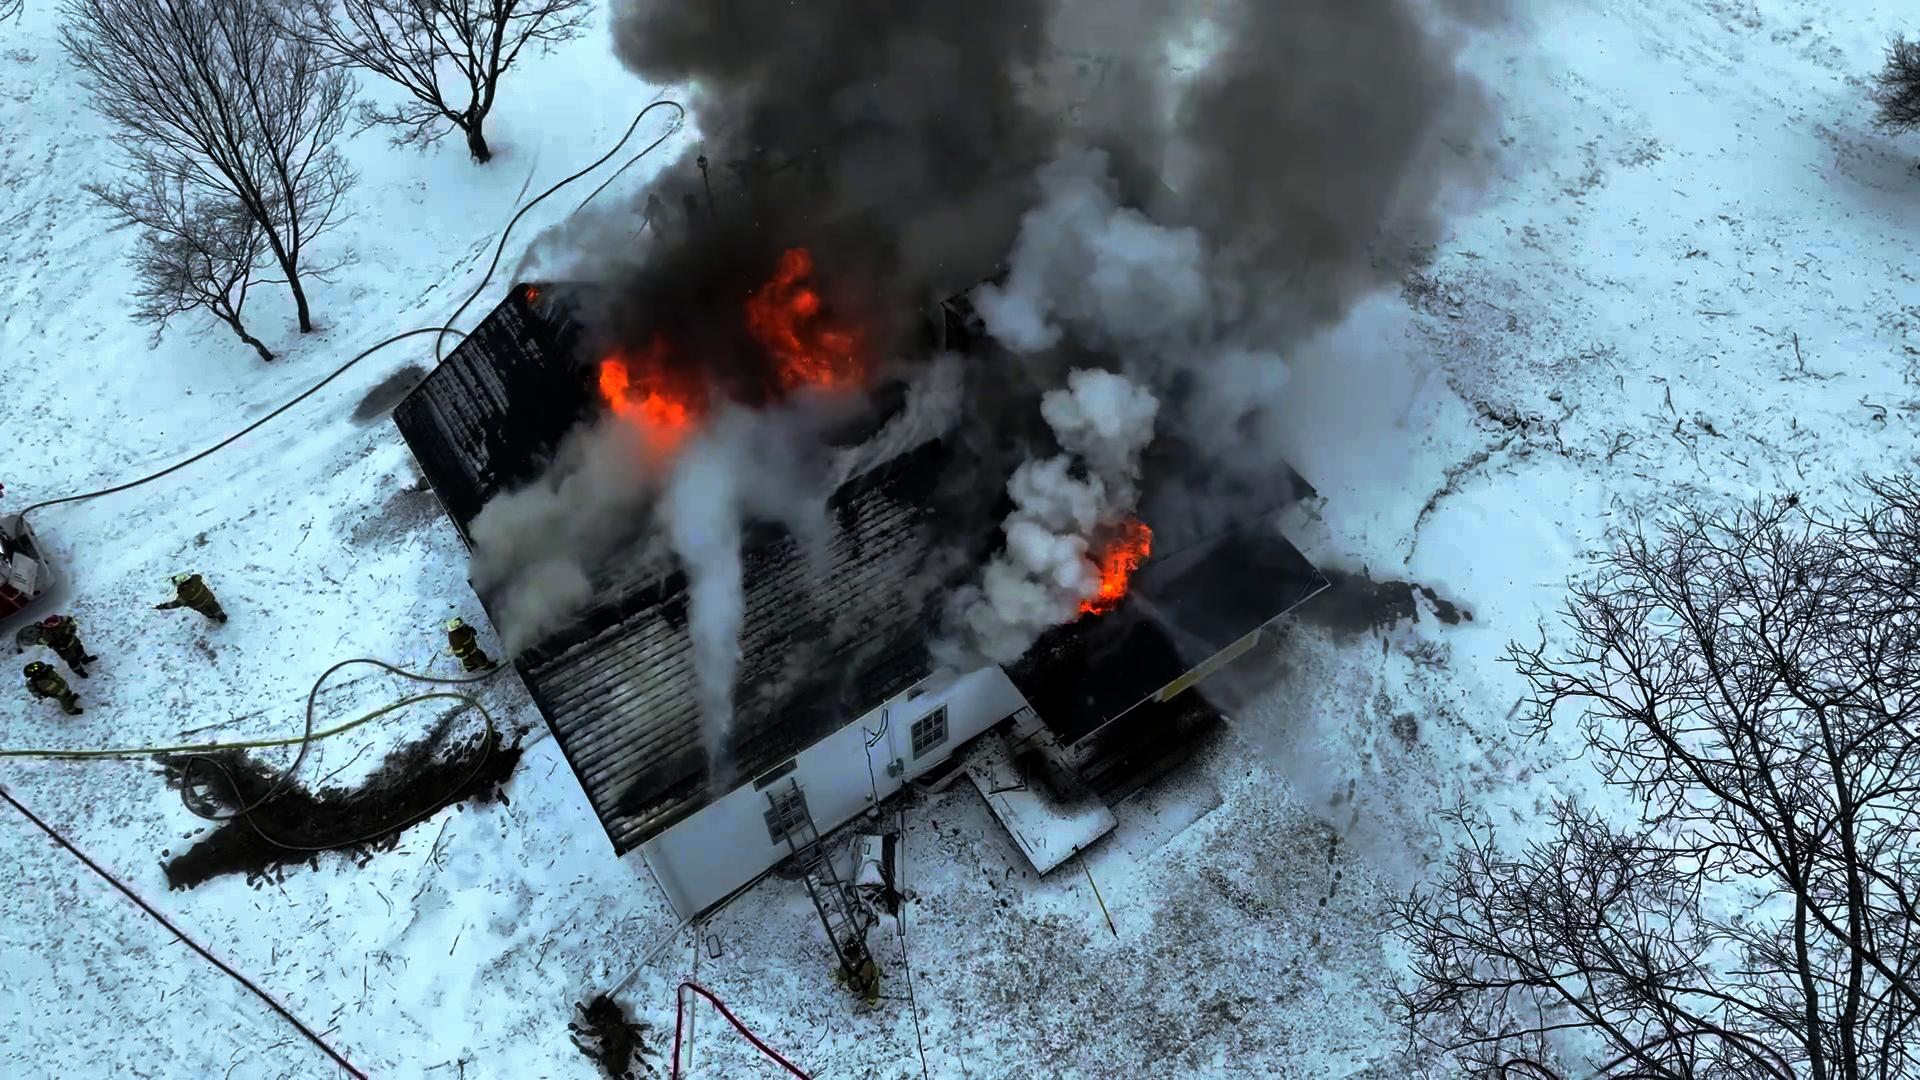fire: (597, 253, 857, 433)
smoke: (906, 55, 1305, 328)
